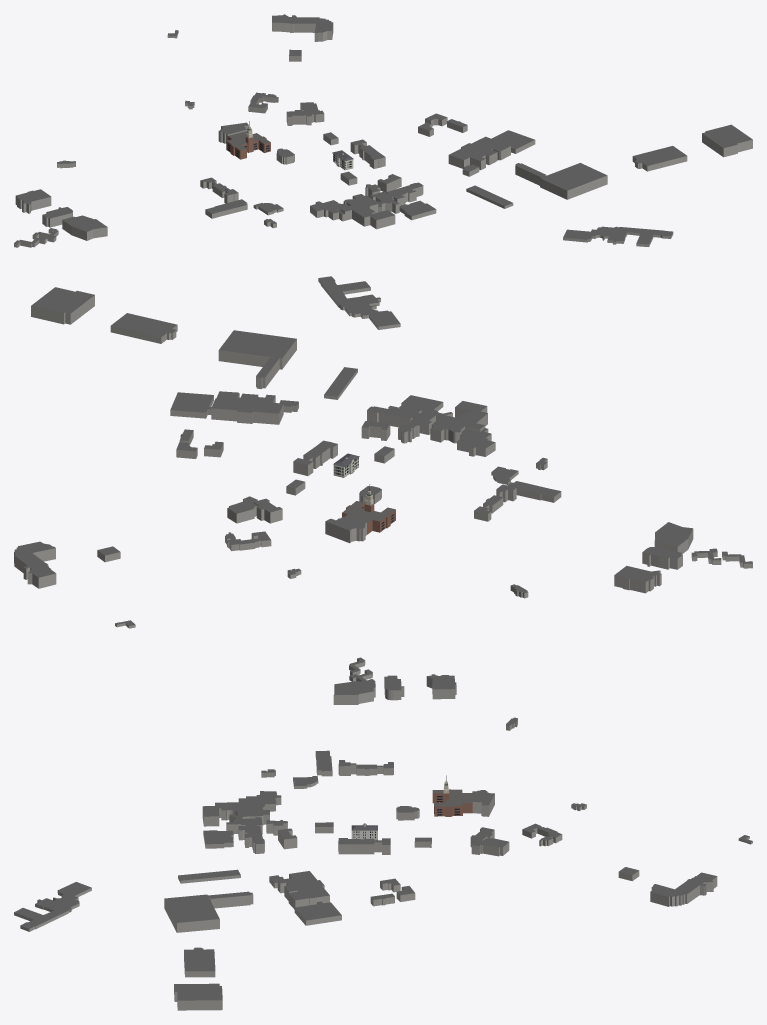
Rendered from dartmouth-evidence-styled.glb.
3 renders of one model, top to bottom at view 1: azimuth 30°, elevation 25°; view 2: azimuth 150°, elevation 25°; view 3: azimuth 270°, elevation 25°, orthographic. The views are drawn at different scales.
Visible parts, largest first — view 1: building__leverone-field-house__way_48465833, building__hanover-high-school__way_264225521, building__alumni-gymnasium__way_48467159, building__hopkins-center-for-the-arts__way_262924499, building__class-of-1978-life-sciences-center__way_262950856, building__graham-indoor-practice-facility__way_783709299, building__thompson-arena__way_48465832, building__class-of-1982-engineering-and-computer-science-cen, building__baker-library__way_295888783, building__hood-museum-of-art__way_837183231, building__hanover-inn-dartmouth__way_548896471, building__berry-sports-center__way_48465836 (+5 smaller); view 2: building__leverone-field-house__way_48465833, building__alumni-gymnasium__way_48467159, building__hanover-high-school__way_264225521, building__graham-indoor-practice-facility__way_783709299, building__hopkins-center-for-the-arts__way_262924499, building__class-of-1978-life-sciences-center__way_262950856, building__thompson-arena__way_48465832, building__berry-sports-center__way_48465836, building__baker-library__way_295888783, building__class-of-1982-engineering-and-computer-science-cen, building__berry-library__way_295888784, building__hanover-inn-dartmouth__way_548896471 (+7 smaller); view 3: building__leverone-field-house__way_48465833, building__hanover-high-school__way_264225521, building__alumni-gymnasium__way_48467159, building__class-of-1978-life-sciences-center__way_262950856, building__graham-indoor-practice-facility__way_783709299, building__hopkins-center-for-the-arts__way_262924499, building__baker-library__way_295888783, building__class-of-1982-engineering-and-computer-science-cen, building__thompson-arena__way_48465832, building__berry-sports-center__way_48465836, building__floren-varsity-house__way_295951349, building__fairchild-physical-sciences-center__way_49795632.
Part boxes in pixels (x1,y1,x2,y2): building__leverone-field-house__way_48465833: (540, 163, 607, 199); building__hanover-high-school__way_264225521: (563, 226, 673, 246); building__alumni-gymnasium__way_48467159: (448, 136, 510, 169); building__hopkins-center-for-the-arts__way_262924499: (340, 194, 395, 229); building__class-of-1978-life-sciences-center__way_262950856: (272, 14, 333, 41); building__graham-indoor-practice-facility__way_783709299: (702, 124, 752, 157); building__thompson-arena__way_48465832: (632, 146, 687, 171); building__class-of-1982-engineering-and-computer-science-cen: (62, 215, 107, 240); building__baker-library__way_295888783: (226, 131, 270, 159); building__hood-museum-of-art__way_837183231: (370, 190, 405, 213); building__hanover-inn-dartmouth__way_548896471: (310, 200, 348, 221); building__berry-sports-center__way_48465836: (491, 130, 535, 153); building__leverone-field-house__way_48465833: (218, 330, 296, 369); building__alumni-gymnasium__way_48467159: (211, 391, 283, 424); building__hanover-high-school__way_264225521: (318, 276, 400, 329); building__graham-indoor-practice-facility__way_783709299: (31, 287, 94, 324); building__hopkins-center-for-the-arts__way_262924499: (430, 401, 487, 443); building__class-of-1978-life-sciences-center__way_262950856: (14, 541, 56, 588); building__thompson-arena__way_48465832: (110, 313, 177, 343); building__berry-sports-center__way_48465836: (170, 392, 213, 418); building__baker-library__way_295888783: (342, 501, 395, 534); building__class-of-1982-engineering-and-computer-science-cen: (654, 522, 693, 553); building__berry-library__way_295888784: (325, 517, 366, 543); building__hanover-inn-dartmouth__way_548896471: (457, 428, 495, 456); building__leverone-field-house__way_48465833: (164, 894, 219, 932); building__hanover-high-school__way_264225521: (14, 882, 91, 931); building__alumni-gymnasium__way_48467159: (277, 871, 329, 909); building__class-of-1978-life-sciences-center__way_262950856: (650, 872, 717, 906); building__graham-indoor-practice-facility__way_783709299: (174, 983, 222, 1010); building__hopkins-center-for-the-arts__way_262924499: (202, 798, 269, 826); building__baker-library__way_295888783: (432, 789, 472, 816); building__class-of-1982-engineering-and-computer-science-cen: (333, 681, 375, 704); building__thompson-arena__way_48465832: (184, 947, 215, 977); building__berry-sports-center__way_48465836: (294, 901, 341, 925); building__floren-varsity-house__way_295951349: (208, 891, 253, 908); building__fairchild-physical-sciences-center__way_49795632: (471, 838, 509, 856).
Bounding box in the file's own units: 1510 × 66.8 × 1352.
